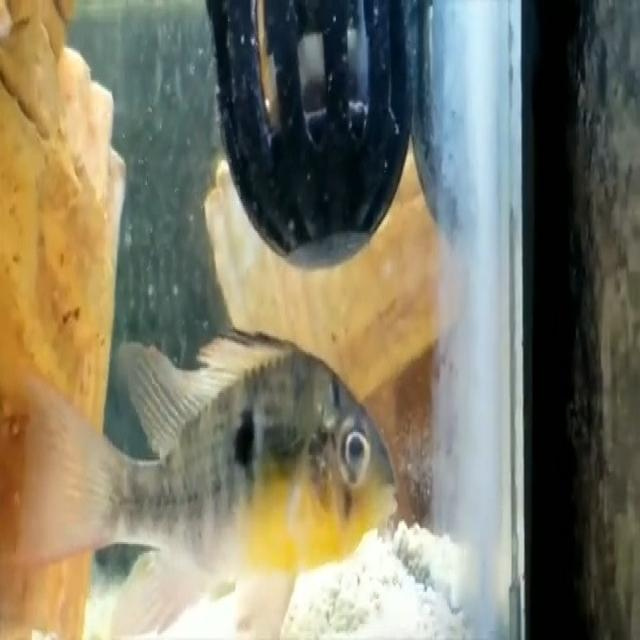fish: (34, 318, 401, 640)
